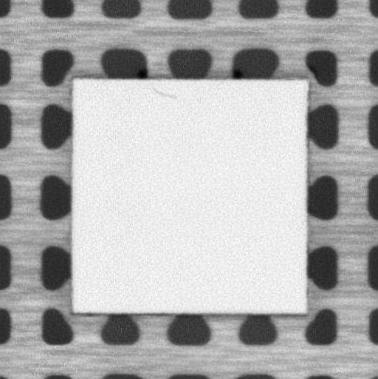DIE_CRACK: (151, 86, 177, 101)
